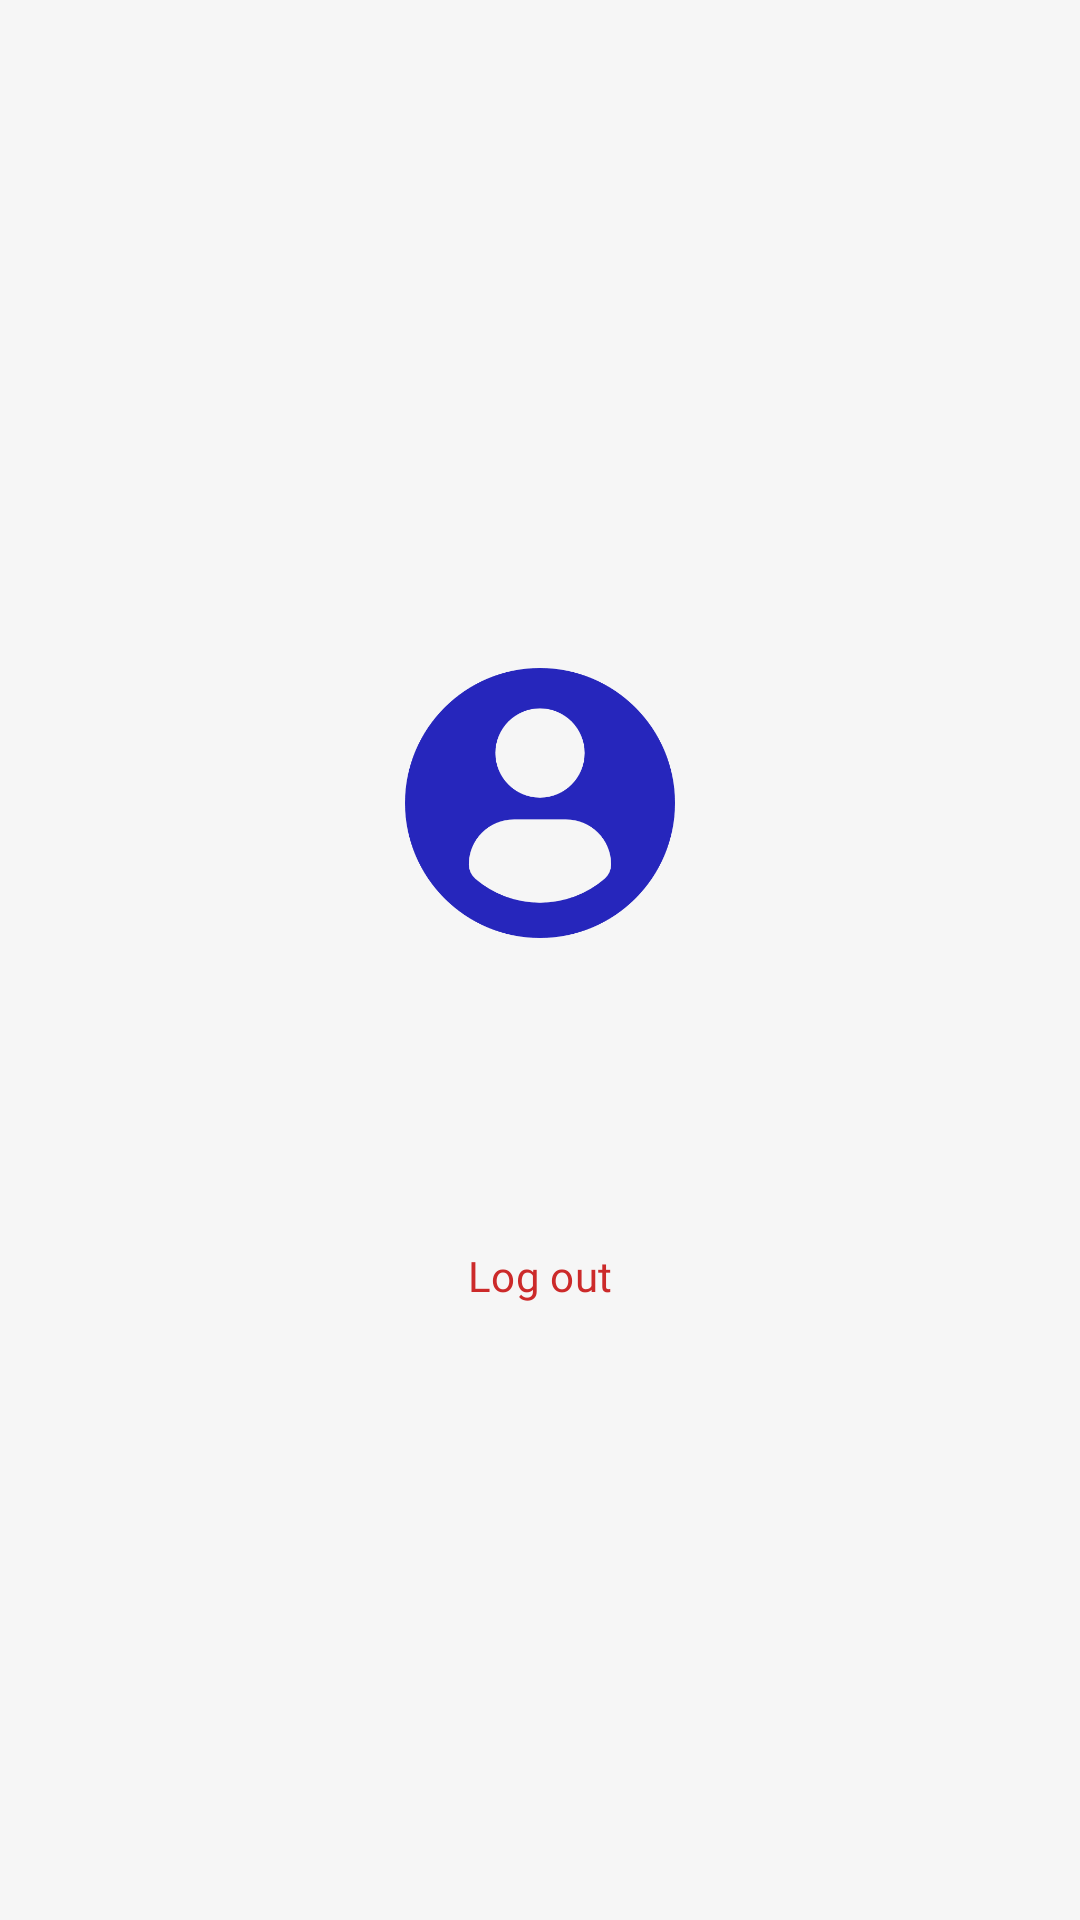

Named icons in this screenshot (1080 × 1920) and their bounding boxes, {"left": x1, "top": y1, "right": x2, "bottom": y2}:
profile user: {"left": 405, "top": 668, "right": 675, "bottom": 938}
